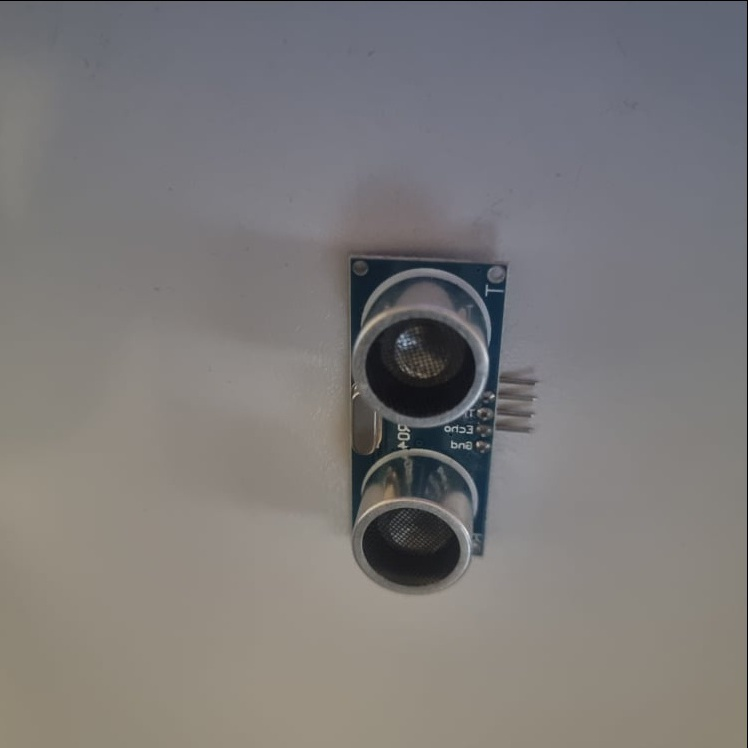SENSOR: (344, 253, 541, 595)
